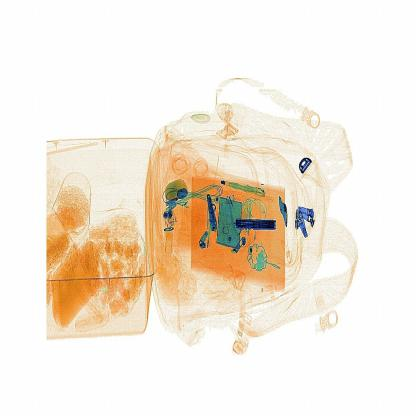scissors: (233, 208, 286, 236)
